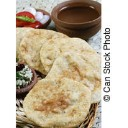poori: (23, 77, 91, 127), (49, 53, 102, 103), (40, 38, 97, 75), (20, 30, 70, 63)
